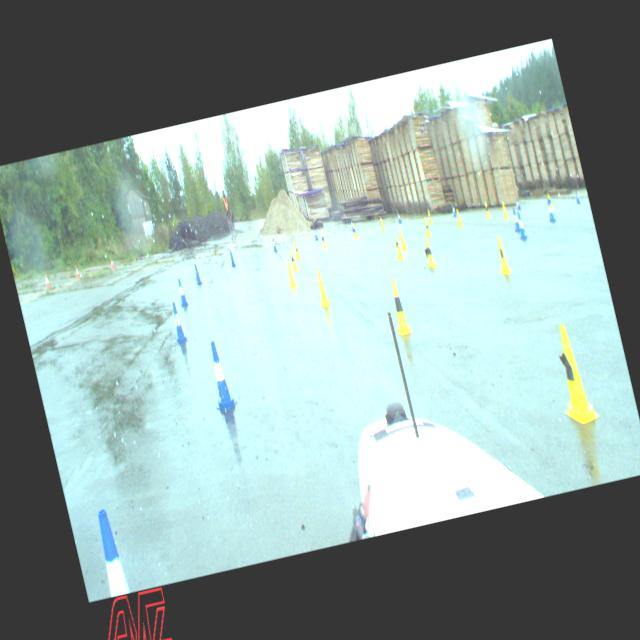blue_cone: (92, 508, 130, 596), (204, 340, 234, 410), (168, 301, 186, 343), (175, 278, 188, 307), (515, 212, 528, 240), (510, 207, 520, 231), (545, 199, 555, 222), (192, 263, 202, 285), (271, 236, 278, 252), (228, 250, 235, 266), (574, 189, 580, 204), (312, 227, 318, 240), (396, 210, 402, 223), (514, 196, 520, 209), (451, 203, 456, 216), (350, 218, 354, 231)
orange_cone: (43, 274, 50, 288), (74, 264, 80, 278), (109, 258, 115, 268)
yellow_cone: (545, 321, 600, 427), (386, 278, 412, 336), (493, 233, 513, 274), (312, 268, 331, 308), (422, 236, 436, 268), (392, 233, 403, 259), (285, 261, 296, 286), (288, 248, 298, 270), (398, 227, 407, 249), (422, 216, 431, 236), (292, 240, 300, 258), (455, 208, 463, 226), (319, 231, 327, 248), (501, 201, 508, 219), (350, 223, 358, 238), (484, 201, 491, 217), (426, 208, 433, 224), (548, 193, 554, 210), (379, 216, 385, 230)
